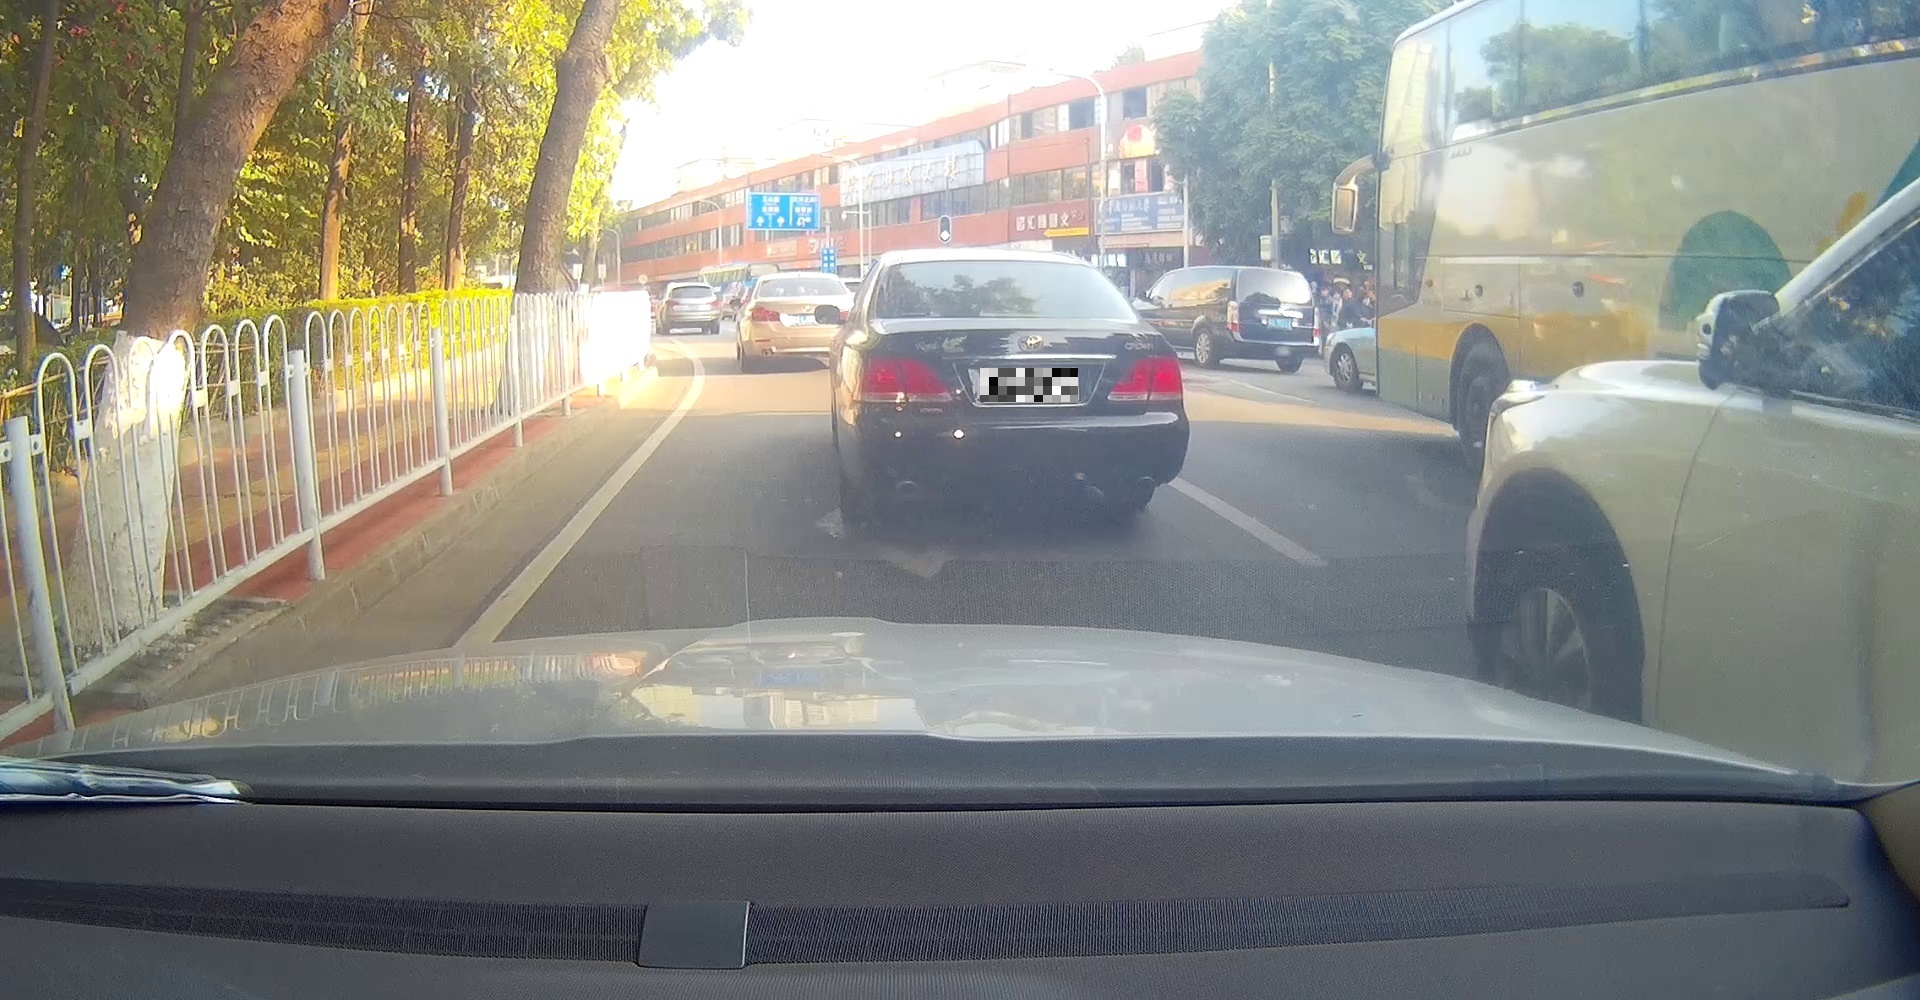L_light: (861, 354, 949, 393), (1225, 301, 1239, 332), (665, 299, 679, 306)
R_light: (1111, 355, 1183, 396), (1312, 307, 1319, 336), (707, 299, 719, 306)
T_light: (979, 307, 1054, 319), (1269, 273, 1288, 275), (688, 287, 696, 288)
day-no: (855, 251, 1189, 522), (1225, 266, 1321, 373), (664, 282, 720, 334)
plate_1: (980, 368, 1078, 402)
